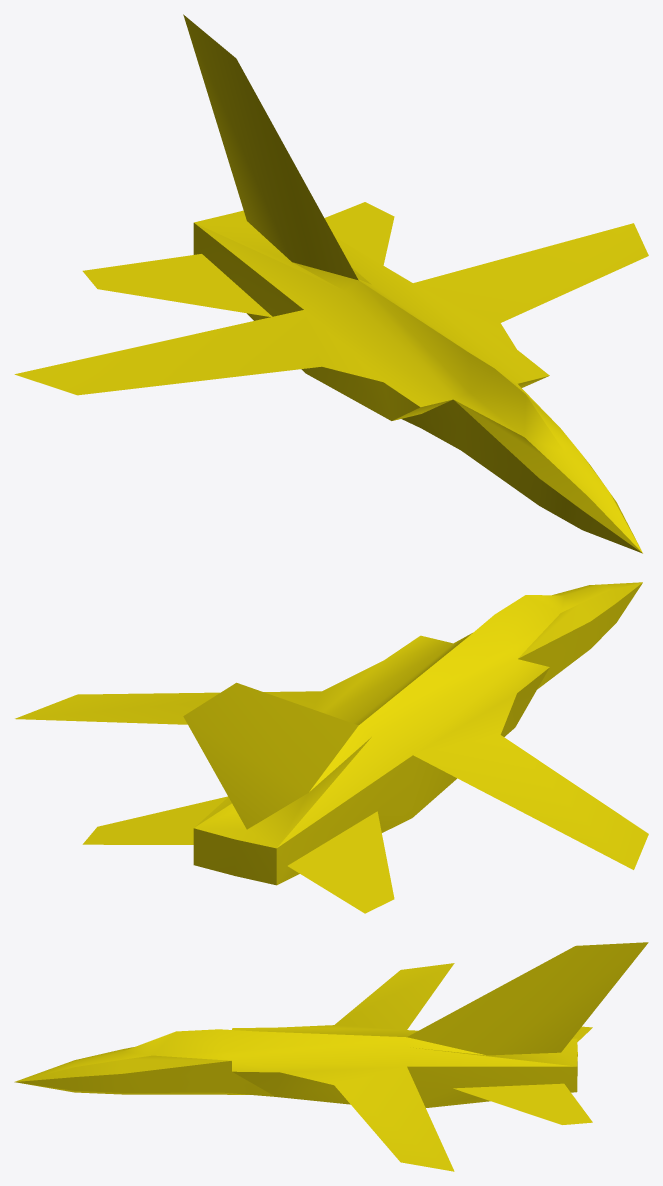
The picture shows the model from 3 angles, top to bottom: view 1: azimuth 30°, elevation 25°; view 2: azimuth 150°, elevation 25°; view 3: azimuth 270°, elevation 25°; orthographic projection. The views are drawn at different scales.
Parts seen in each view (by area): view 1: Plane; view 2: Plane; view 3: Plane.
Part boxes in pixels (x1,y1,x2,y2): Plane: (14, 14, 648, 553); Plane: (15, 582, 648, 913); Plane: (14, 942, 648, 1171).
Size of the model in its own units: 1.81 by 0.6177 by 2.32.
